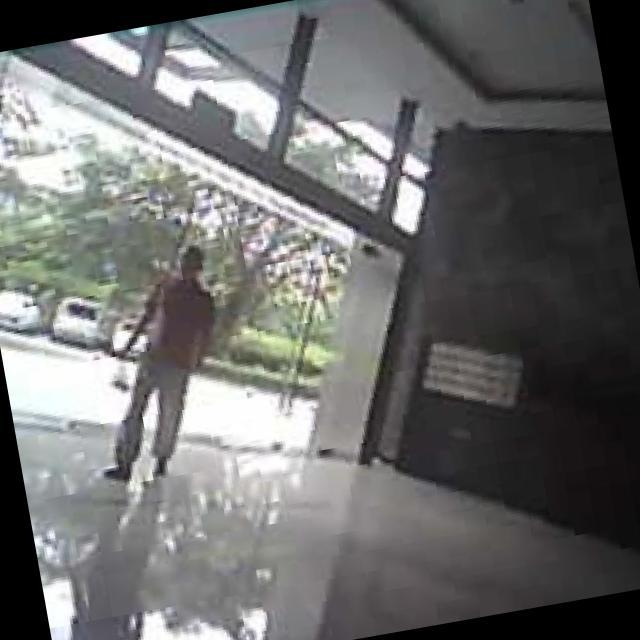person: (68, 238, 255, 488)
